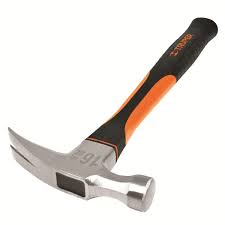martillu: (5, 15, 220, 216)
